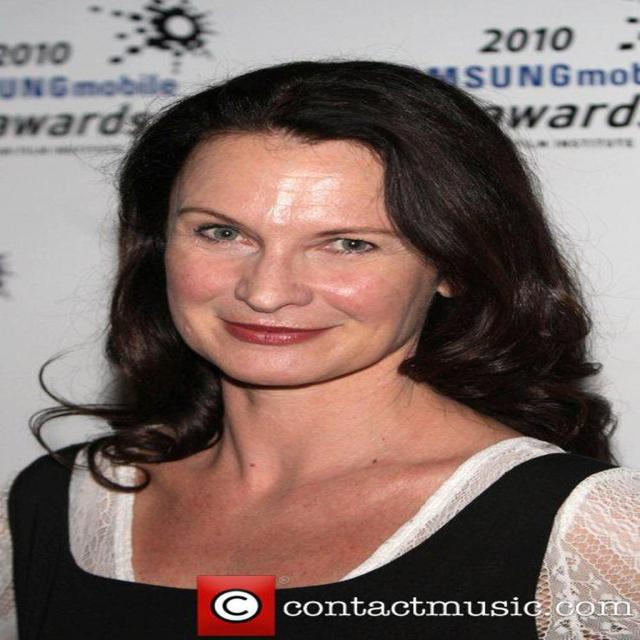Face: (148, 123, 451, 399)
